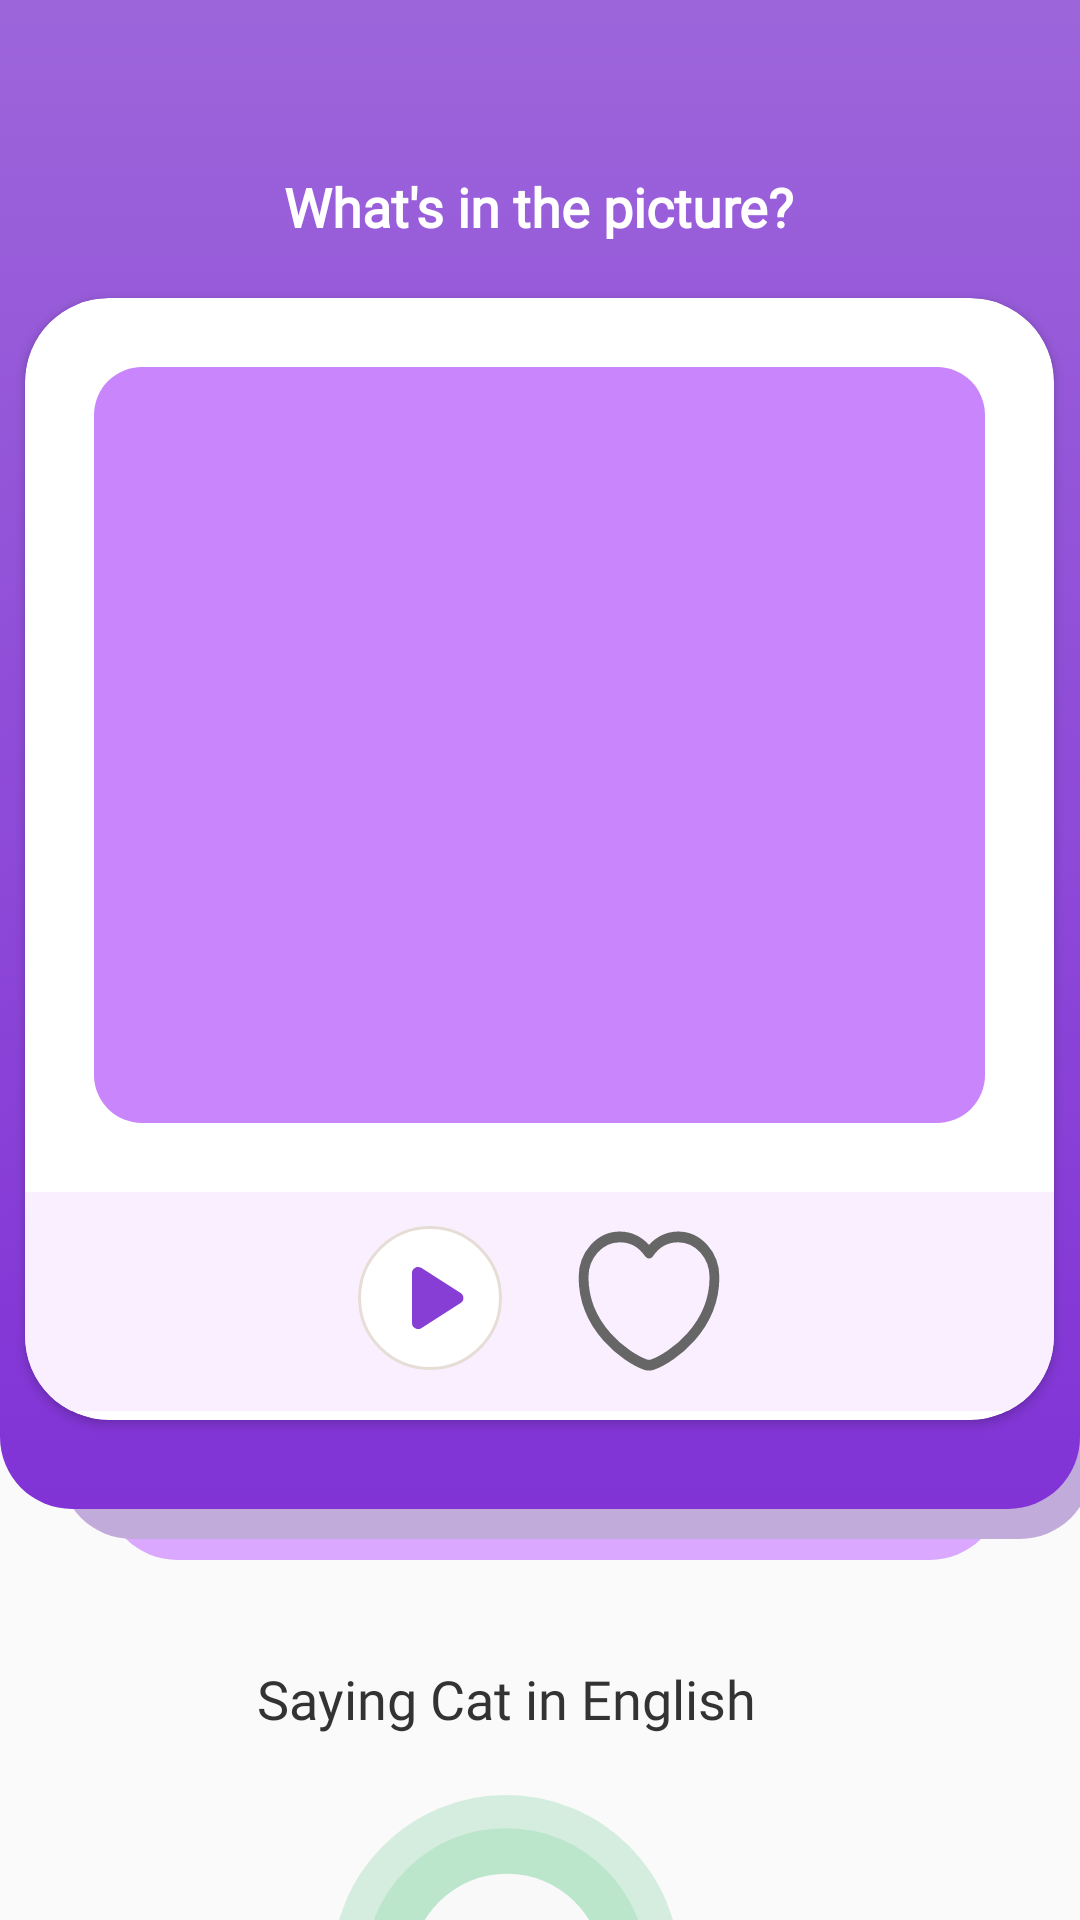

Where to tap for icons on this 1080 x 1920 app screen, as (x,y):
favorite: (649,1301)
playbtn: (430,1298)
